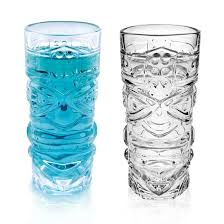air: (115, 42, 196, 201), (18, 38, 104, 184)
